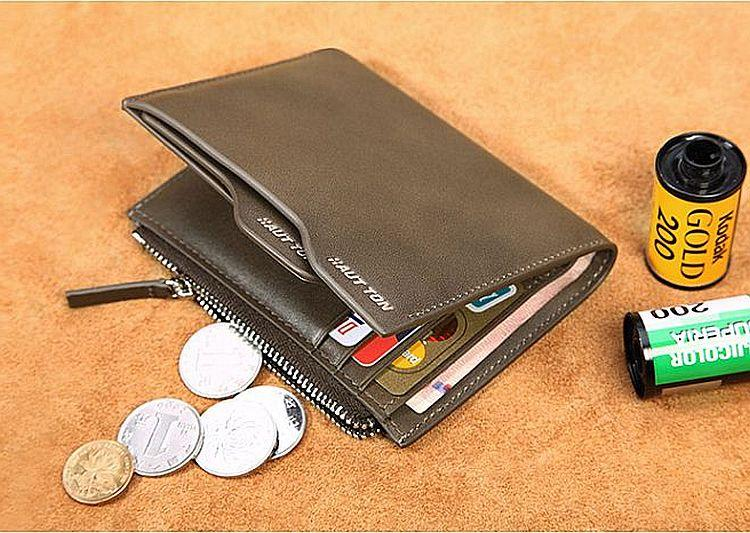monedero: (116, 47, 621, 450)
